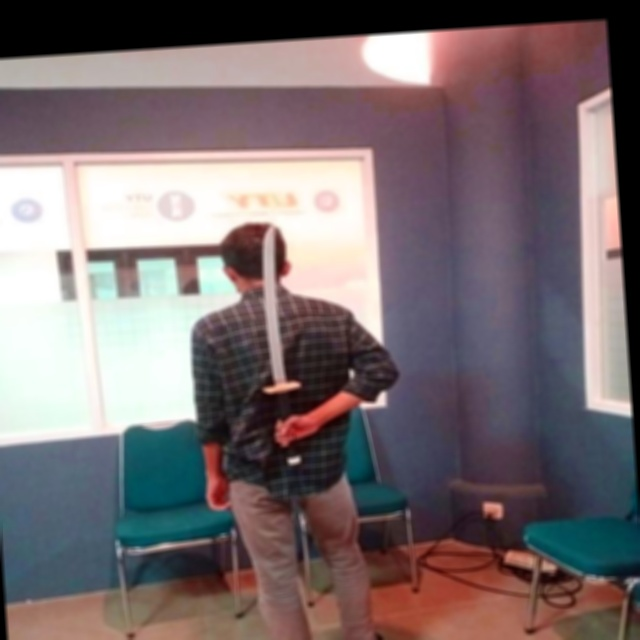Sharp-Object: (243, 220, 317, 471)
